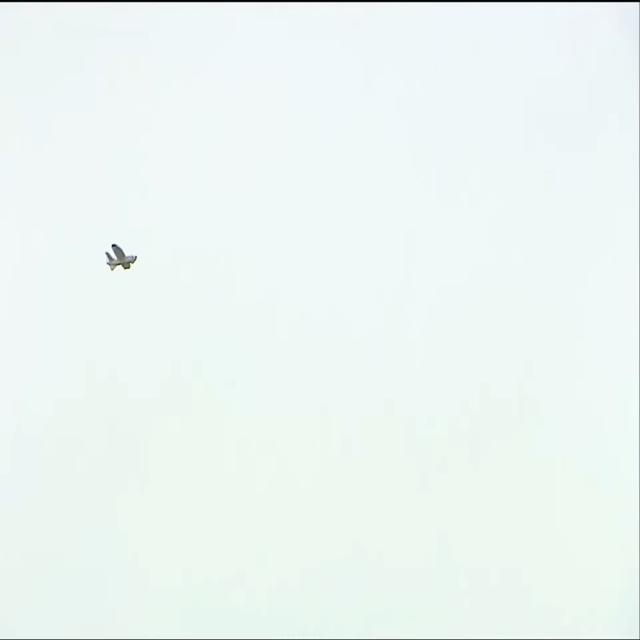iha: (41, 242, 75, 275)
